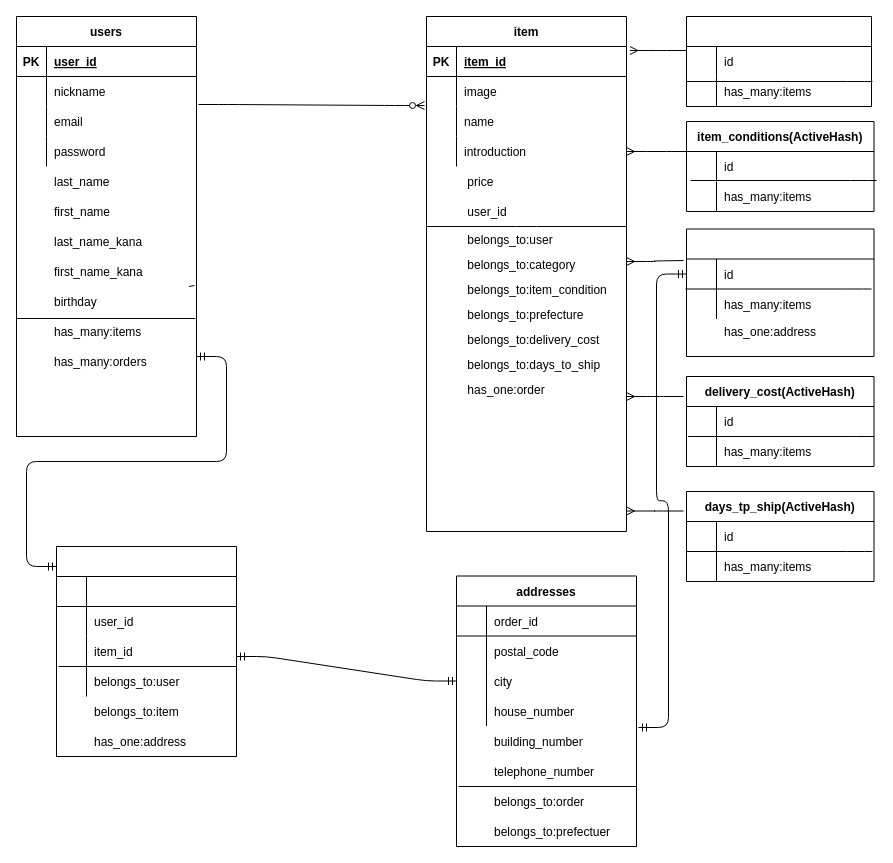
Some shapes in this 893 by 863 pixel diagram are drawn without their labels. Each missing label, with the box of its shape:
categories(ActiveHash): (686, 16, 872, 106)
orders: (56, 546, 236, 756)
prefectures(ActiveHash): (686, 228, 874, 356)
